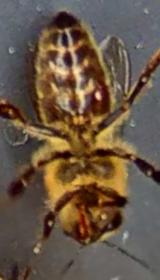varroa_mite: (85, 74, 122, 118)
